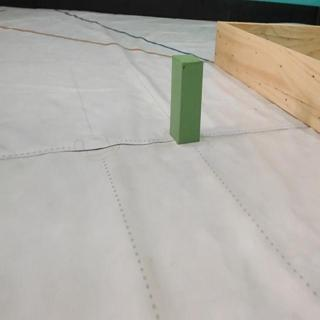greenbox: (171, 53, 204, 144)
